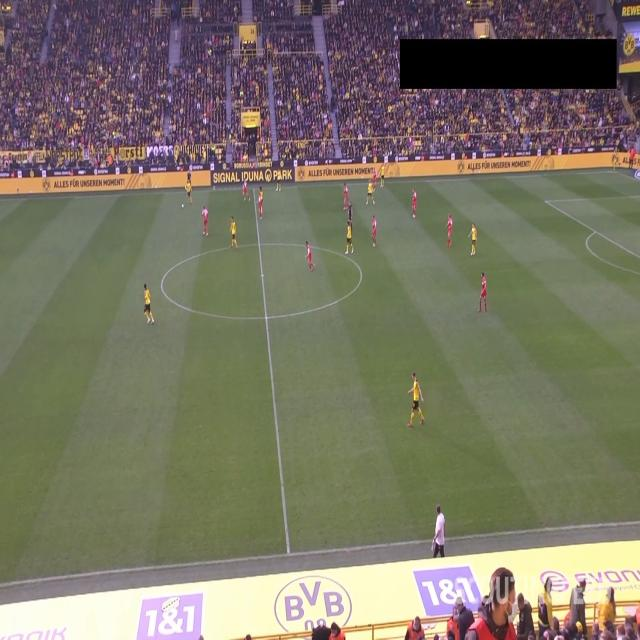ball: (182, 203, 184, 209)
